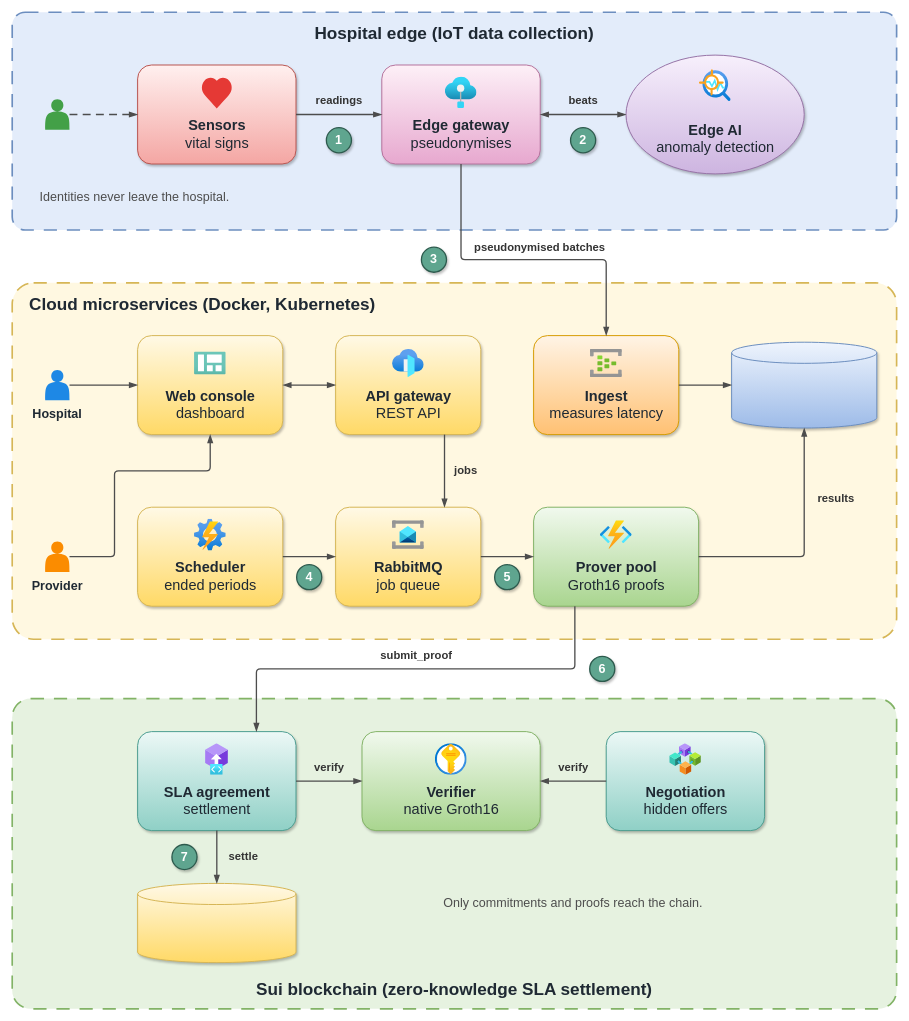
The diagram is 909 pixels wide and 1021 high, and some of its shapes have lost their labels. The centre of each missing label's shape, as x and y in pixels:
"Escrow SUI coins" goes at point (217, 923).
"MongoDB telemetry" goes at point (804, 386).
"Patient" goes at point (57, 114).
